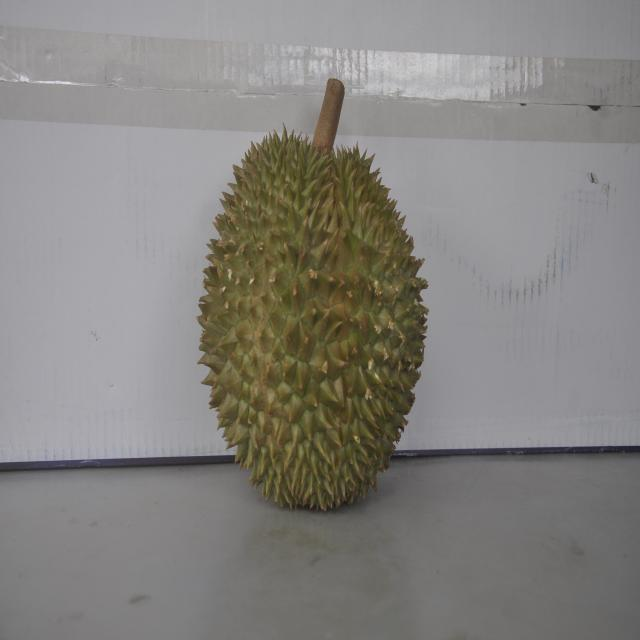mature: (201, 113, 426, 510)
